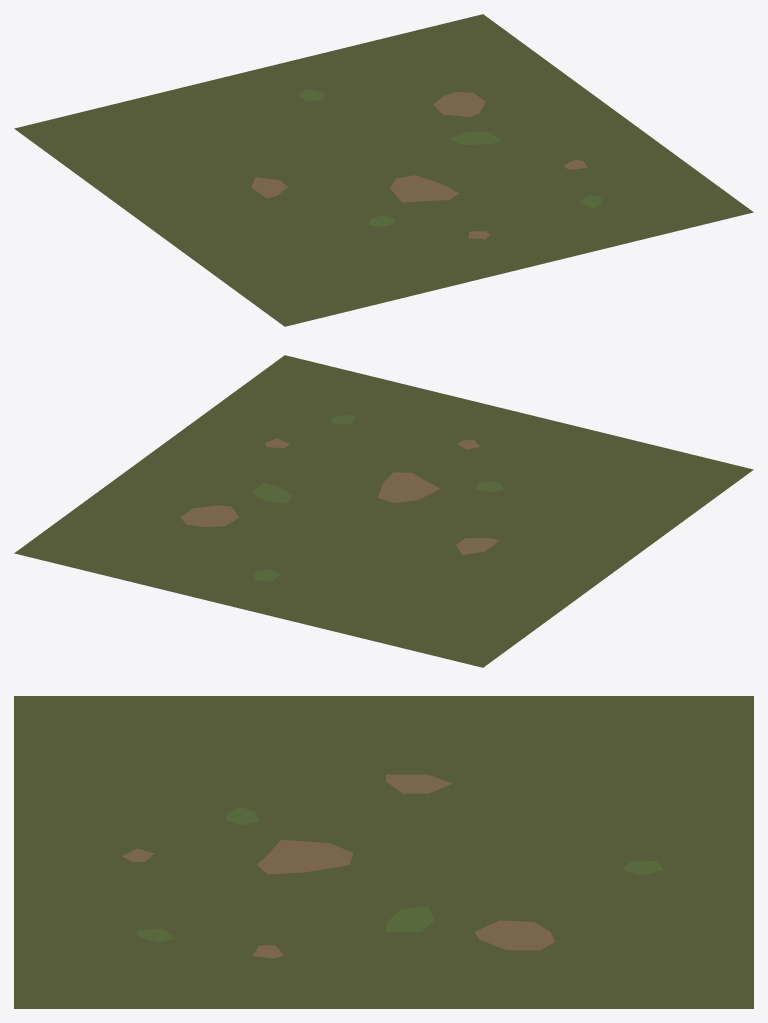
File: SM_Env_FloorTile_06.gltf
3 renders of one model, top to bottom at view 1: azimuth 30°, elevation 25°; view 2: azimuth 150°, elevation 25°; view 3: azimuth 270°, elevation 25°, orthographic. The views are drawn at different scales.
Parts seen in each view (by area): view 1: SM_Env_FloorTile_06; view 2: SM_Env_FloorTile_06; view 3: SM_Env_FloorTile_06.
Boxes of the visible parts, box(x1,y1,x2,y2) form: SM_Env_FloorTile_06: box(14, 14, 753, 326); SM_Env_FloorTile_06: box(14, 355, 753, 667); SM_Env_FloorTile_06: box(14, 696, 753, 1008).
Bounding box in the file's own units: 3 × 5.06e-07 × 3.
1 material, 1 textured.
